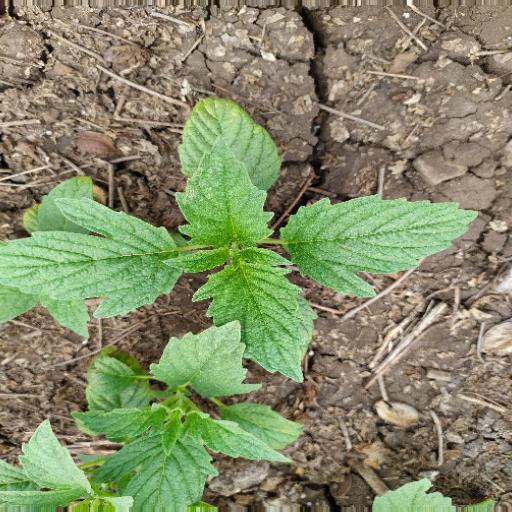crop: (25, 105, 481, 371), (61, 314, 334, 511)
